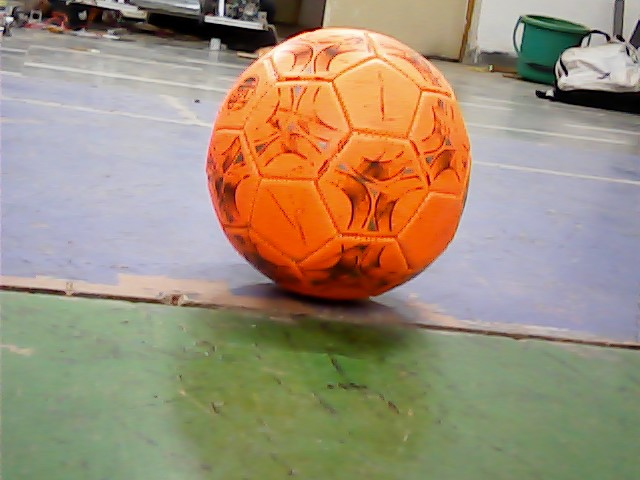Orange_ball: (197, 33, 481, 309)
